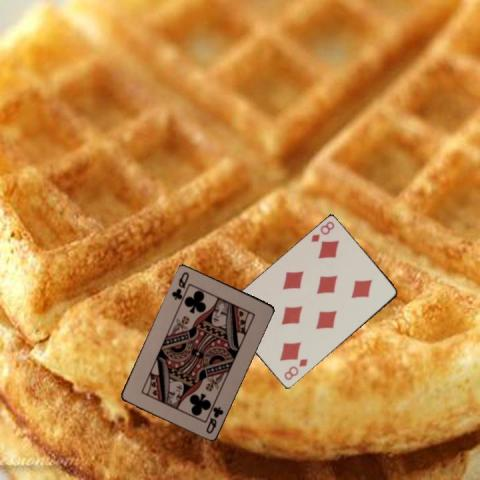8d: (282, 356, 310, 382), (308, 218, 336, 244)
Qc: (168, 269, 190, 301), (202, 403, 224, 435)
